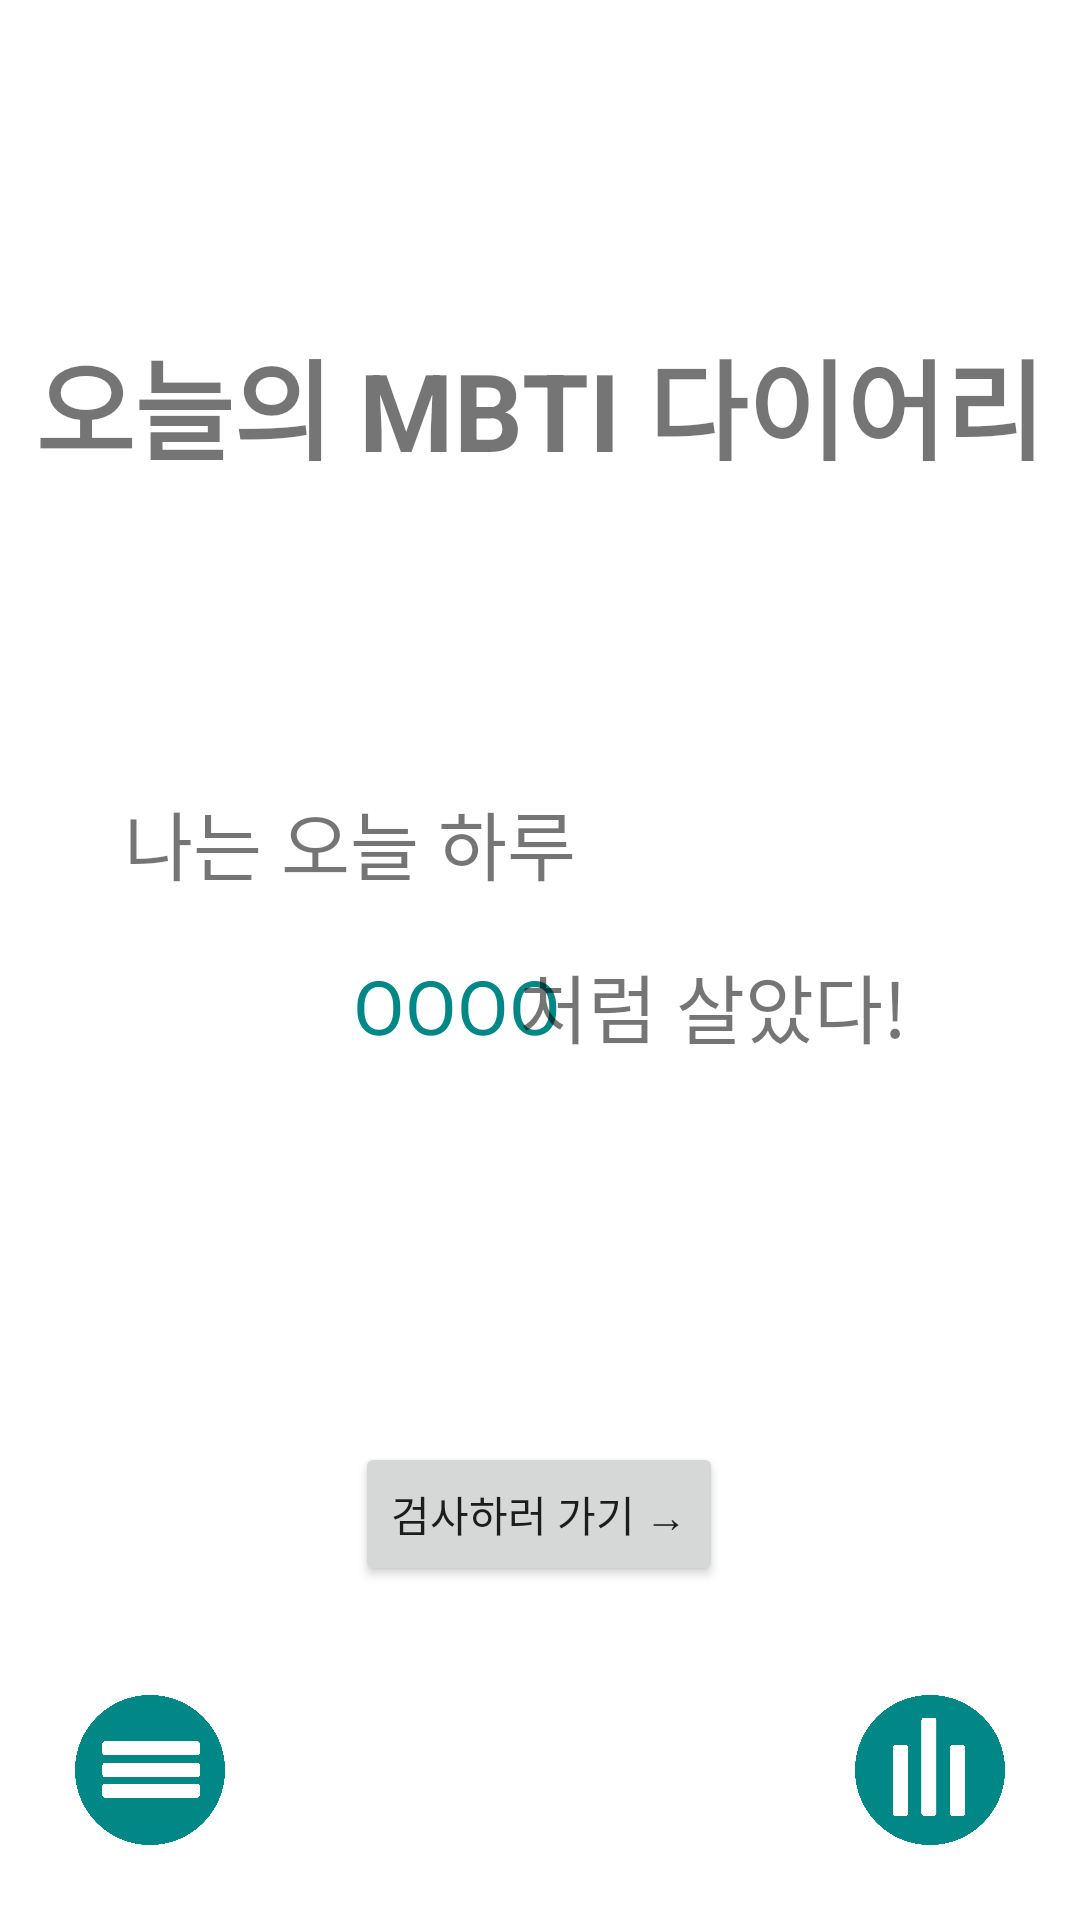

Icon bounding boxes for this 1080px x 1920px phone screenshot, format (x1, y1, x2, y2):
다이어리 목록: (75, 1695, 225, 1845)
통계: (855, 1695, 1005, 1845)
